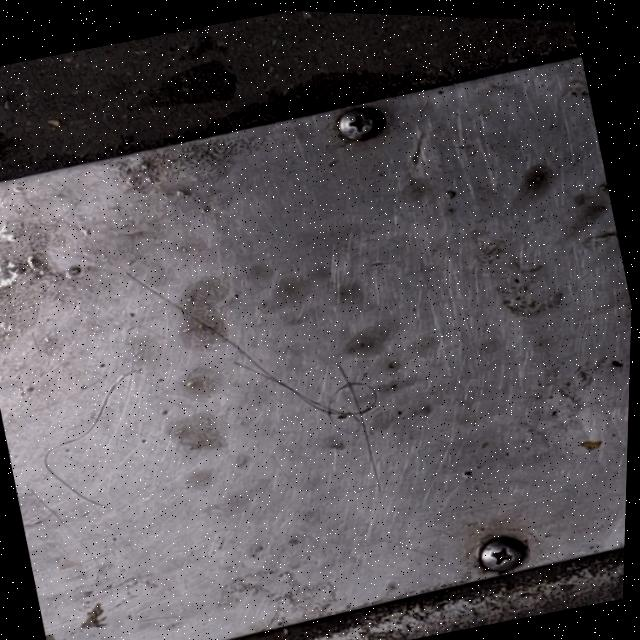Phillips: (470, 523, 543, 583), (329, 100, 390, 146)
